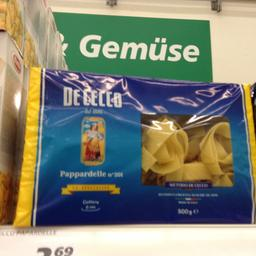pasta: (10, 66, 255, 225)
